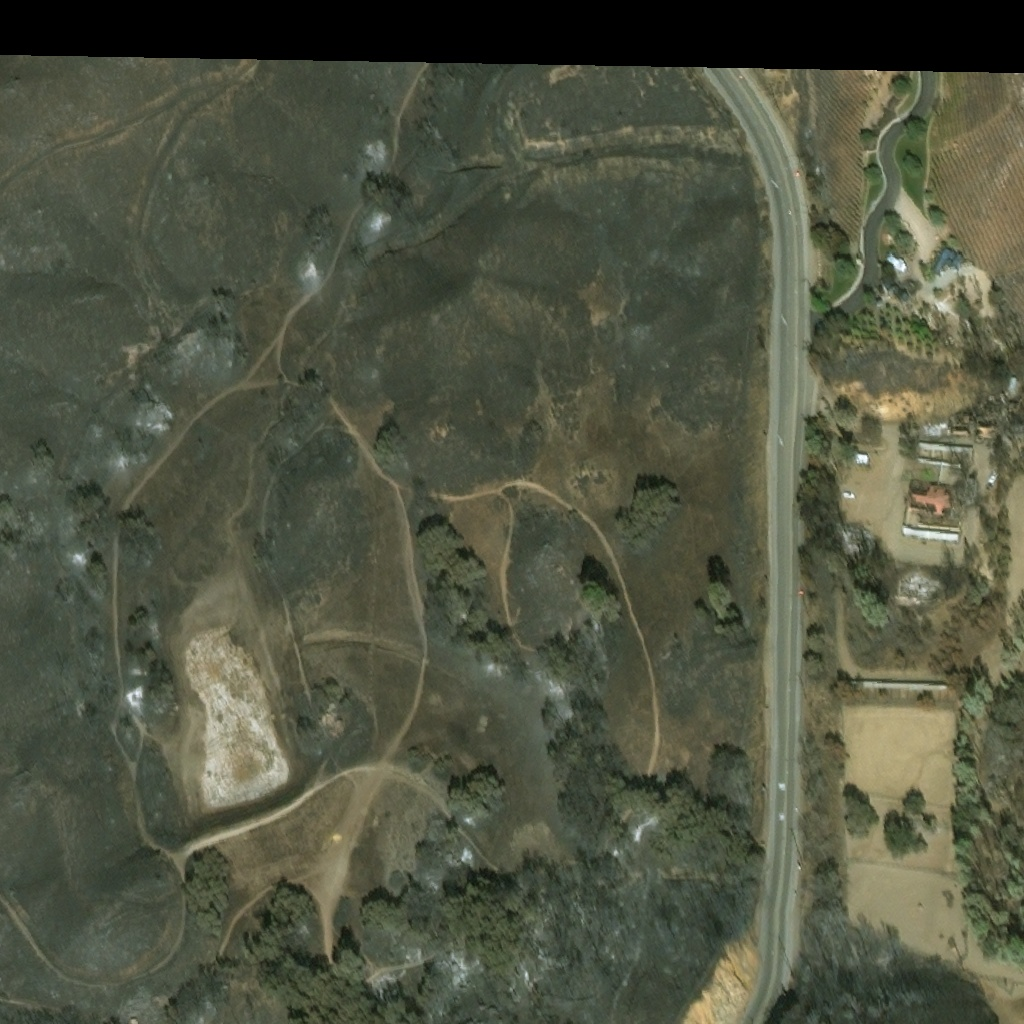0 no-damage: (932, 244, 961, 275), (902, 527, 958, 541), (887, 255, 906, 271), (882, 278, 898, 292), (985, 471, 995, 484)
1 minor-damage: (849, 678, 947, 687), (919, 415, 938, 429)
2 major-damage: (907, 478, 962, 516), (916, 437, 971, 450), (942, 409, 950, 427)
3 destroyed: (895, 569, 944, 608), (972, 395, 1004, 437), (920, 309, 953, 340), (950, 409, 970, 430), (937, 458, 955, 481), (838, 525, 870, 537), (847, 538, 876, 551), (1005, 393, 1018, 410), (963, 475, 973, 497), (1002, 373, 1014, 387), (991, 386, 1002, 395), (1012, 425, 1023, 434), (900, 289, 908, 299), (993, 670, 1000, 680)
